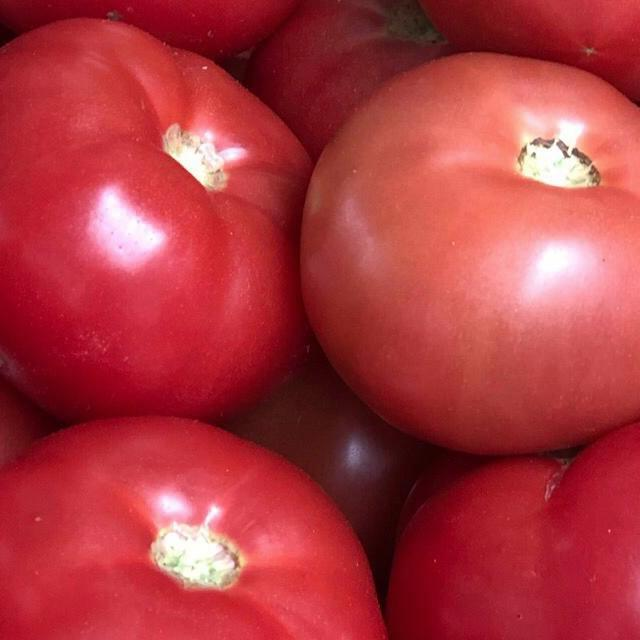tomato: (292, 35, 640, 467), (0, 15, 330, 422), (0, 407, 397, 640)
